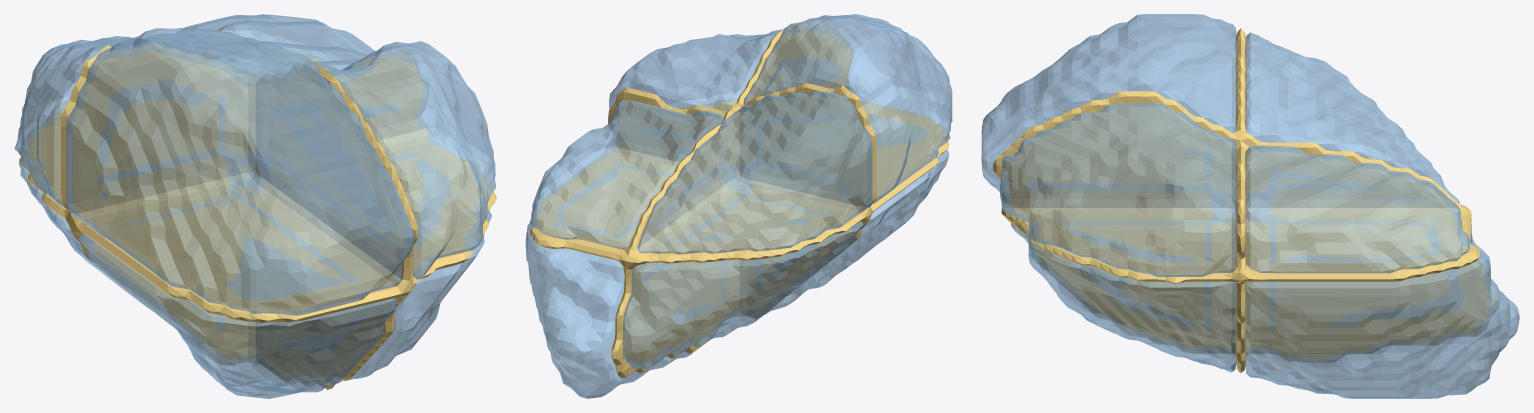
Rendered from prompt.glb.
3 views of the same model, side by side, from view 1: azimuth 30°, elevation 25°; view 2: azimuth 150°, elevation 25°; view 3: azimuth 270°, elevation 25° (orthographic). The views are drawn at different scales.
Parts seen in each view (by area): view 1: world; view 2: world; view 3: world.
Boxes of the visible parts, x1,y1,x2,y2 form: world: [14, 14, 496, 398]; world: [525, 14, 952, 398]; world: [981, 14, 1519, 398].
Bounding box in the file's own units: 0.5654 × 0.5653 × 0.8941.
